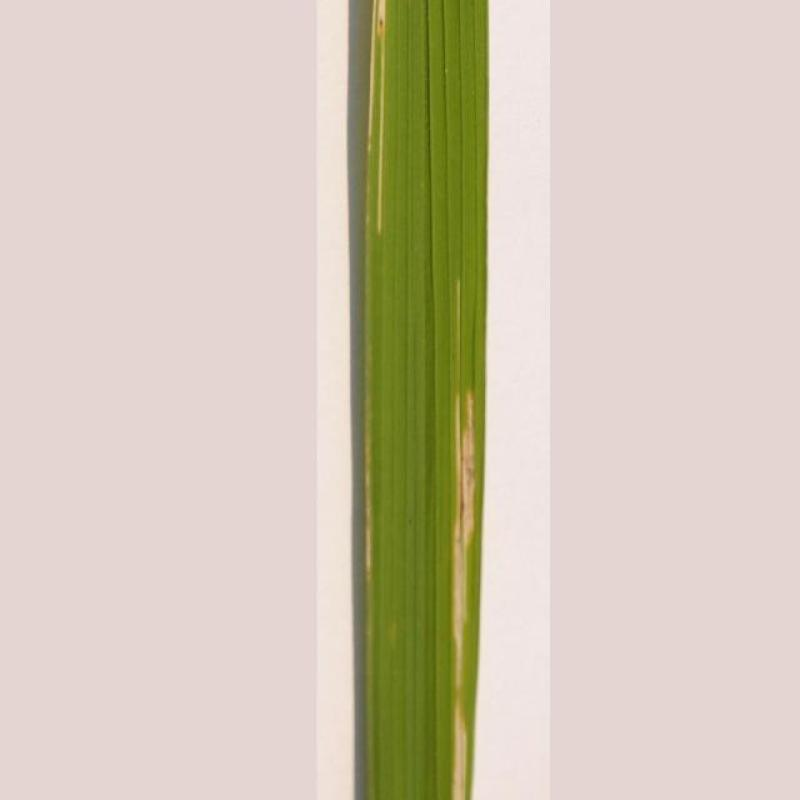Bacterial_Leaf_Blight: (353, 9, 408, 580), (430, 357, 489, 800)
